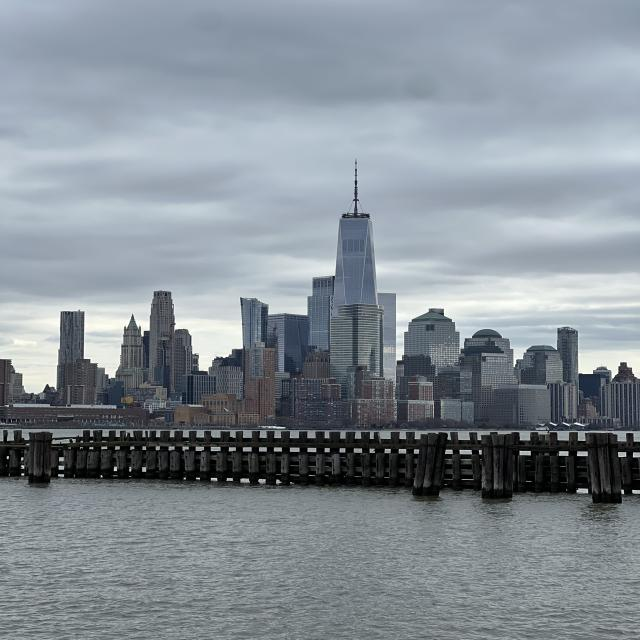WTC: (332, 159, 377, 304)
